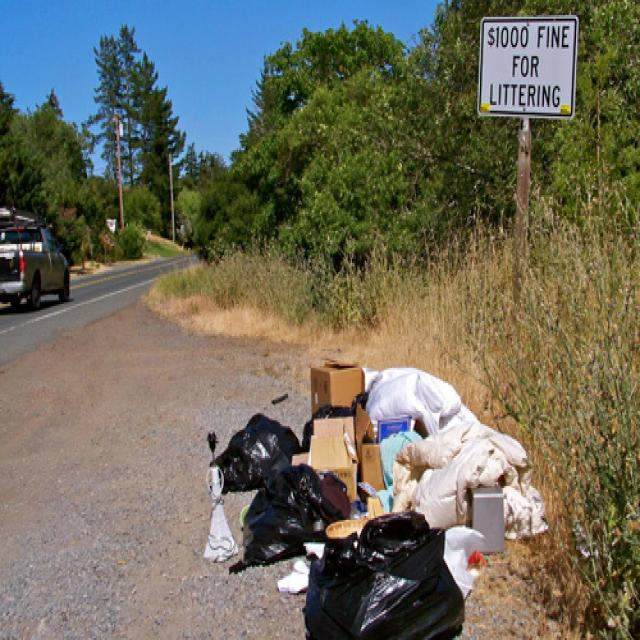garbage: (208, 400, 472, 638), (308, 350, 469, 427), (472, 418, 550, 548)
